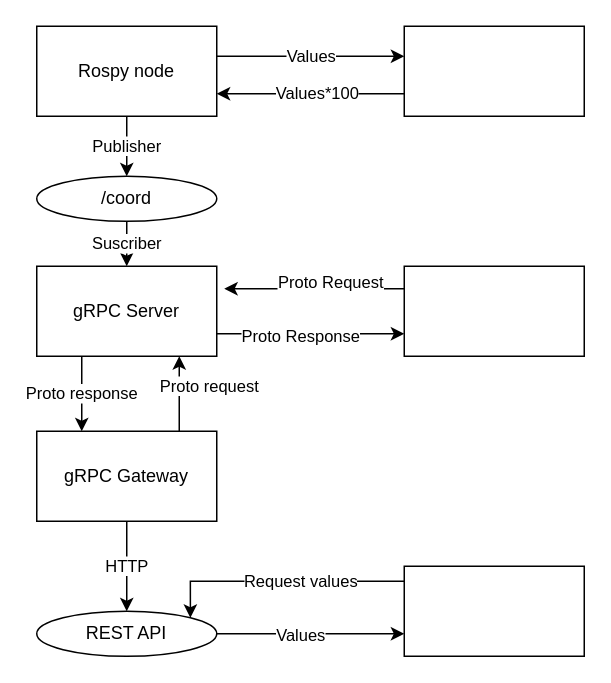
Some shapes in this 611 by 683 pixel diagram are drawn without their labels. The centre of each missing label's shape, as x and y in pixels:
C++ Library: pixel 493 70
gRPC Client (C#): pixel 493 310
HTTP Client (Postman): pixel 493 610
